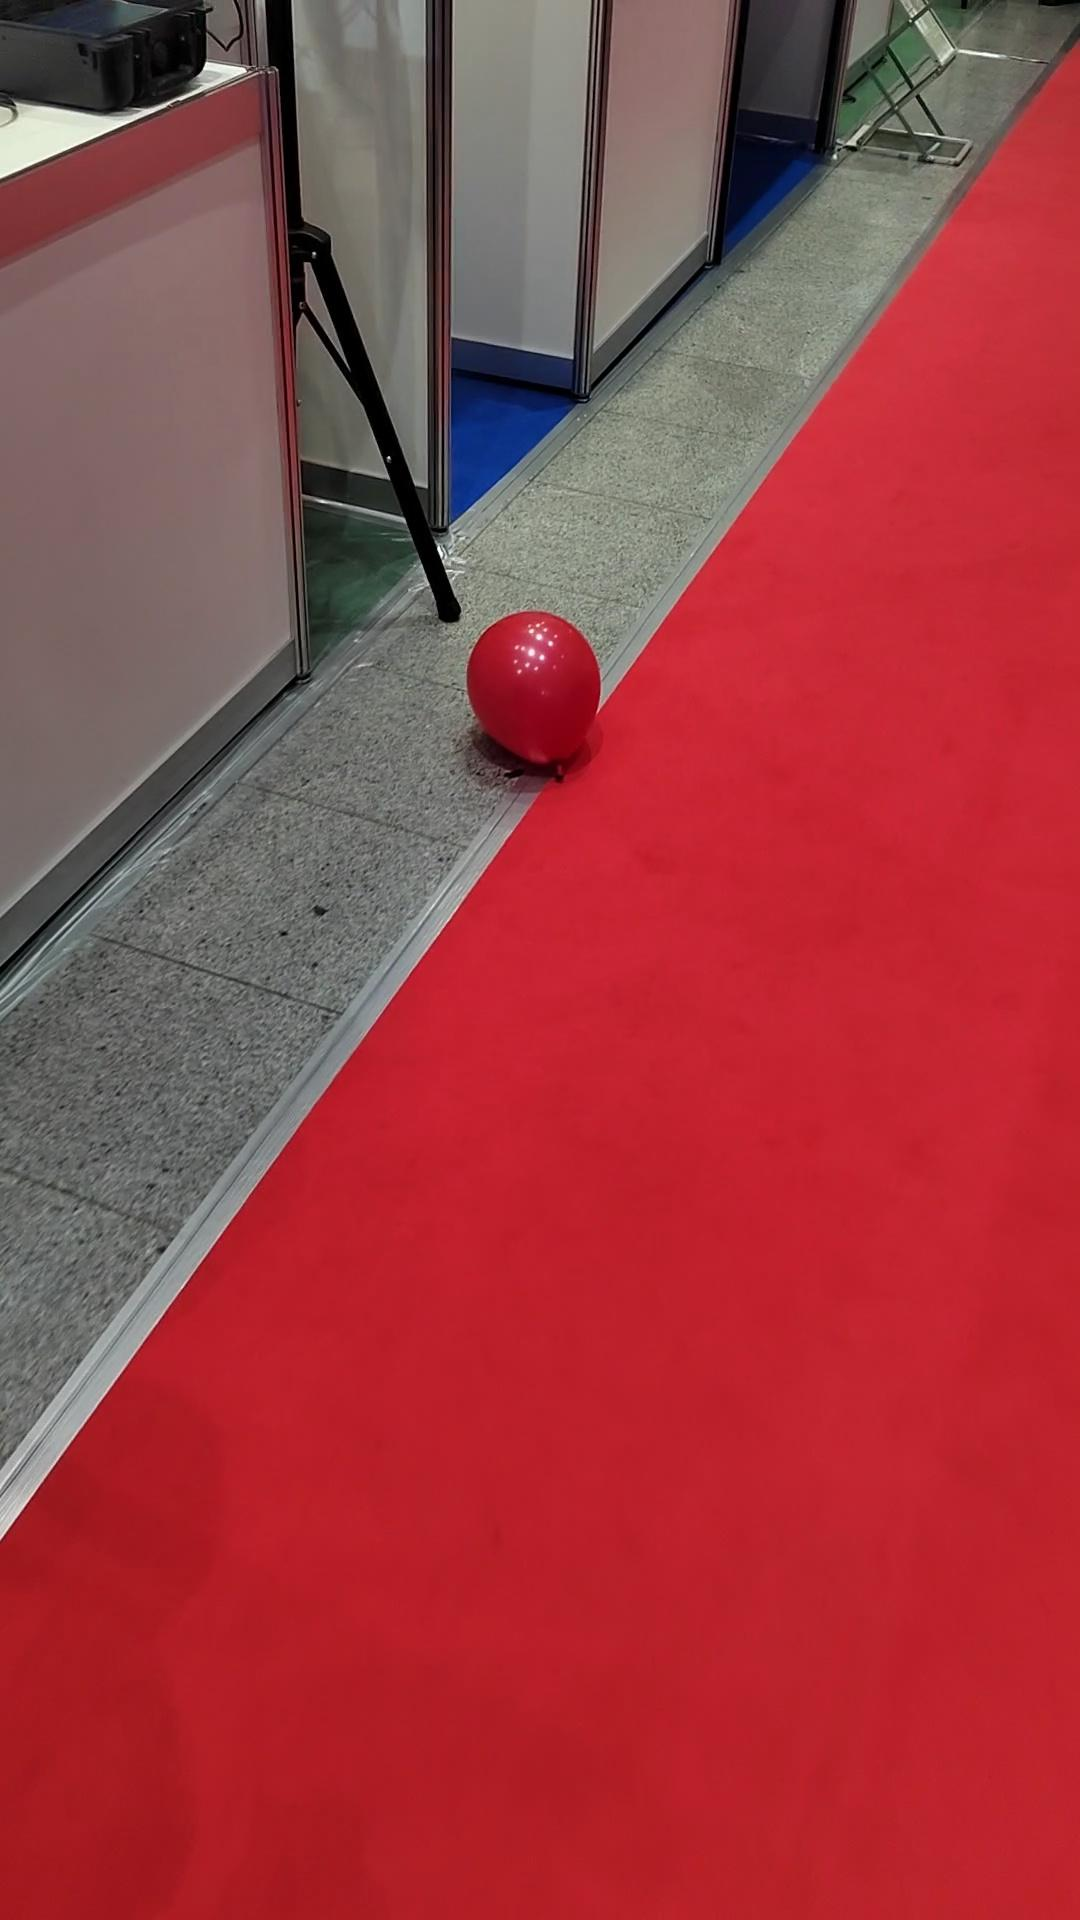red: (463, 607, 597, 774)
